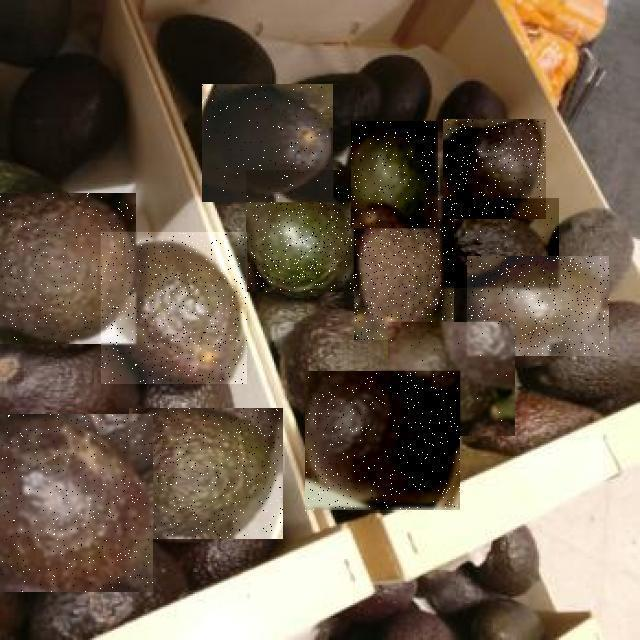Avocado: (0, 414, 153, 592), (101, 232, 247, 384), (305, 372, 460, 512), (0, 193, 136, 344), (129, 408, 283, 539), (202, 85, 333, 203), (388, 322, 515, 436), (247, 170, 365, 292), (467, 256, 609, 356), (355, 201, 455, 341), (441, 198, 559, 288), (443, 119, 546, 219), (352, 121, 440, 228)
